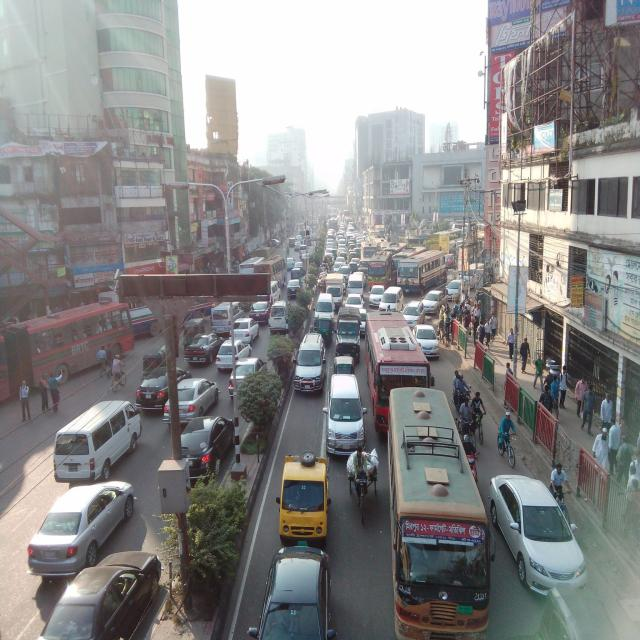black: (37, 548, 163, 638), (182, 410, 230, 480), (133, 369, 190, 407), (184, 332, 222, 369), (286, 280, 302, 296)
blue: (250, 299, 270, 325)
silver: (324, 375, 362, 458), (163, 372, 219, 426), (294, 332, 325, 398), (228, 354, 266, 399), (211, 302, 243, 334), (444, 280, 464, 303)
white: (487, 471, 588, 597), (23, 482, 136, 575), (216, 338, 246, 371), (412, 324, 440, 358), (379, 285, 403, 315), (232, 317, 258, 344), (423, 290, 446, 318), (270, 301, 290, 333), (315, 292, 334, 322), (404, 301, 423, 328), (368, 285, 384, 307), (348, 273, 363, 295), (346, 294, 364, 311), (284, 258, 295, 270)
